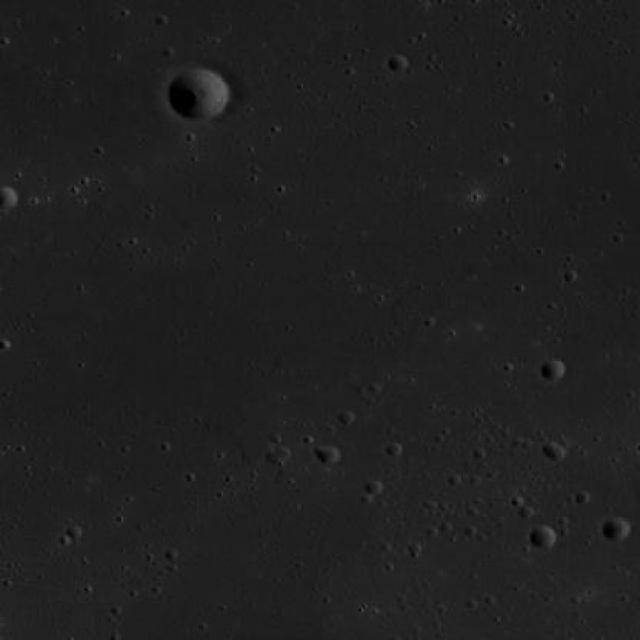crater: (168, 68, 230, 121), (602, 516, 632, 542), (530, 527, 556, 550), (541, 360, 567, 382), (0, 186, 20, 212), (268, 446, 290, 464), (319, 447, 341, 465), (548, 444, 568, 462), (388, 56, 408, 73)
